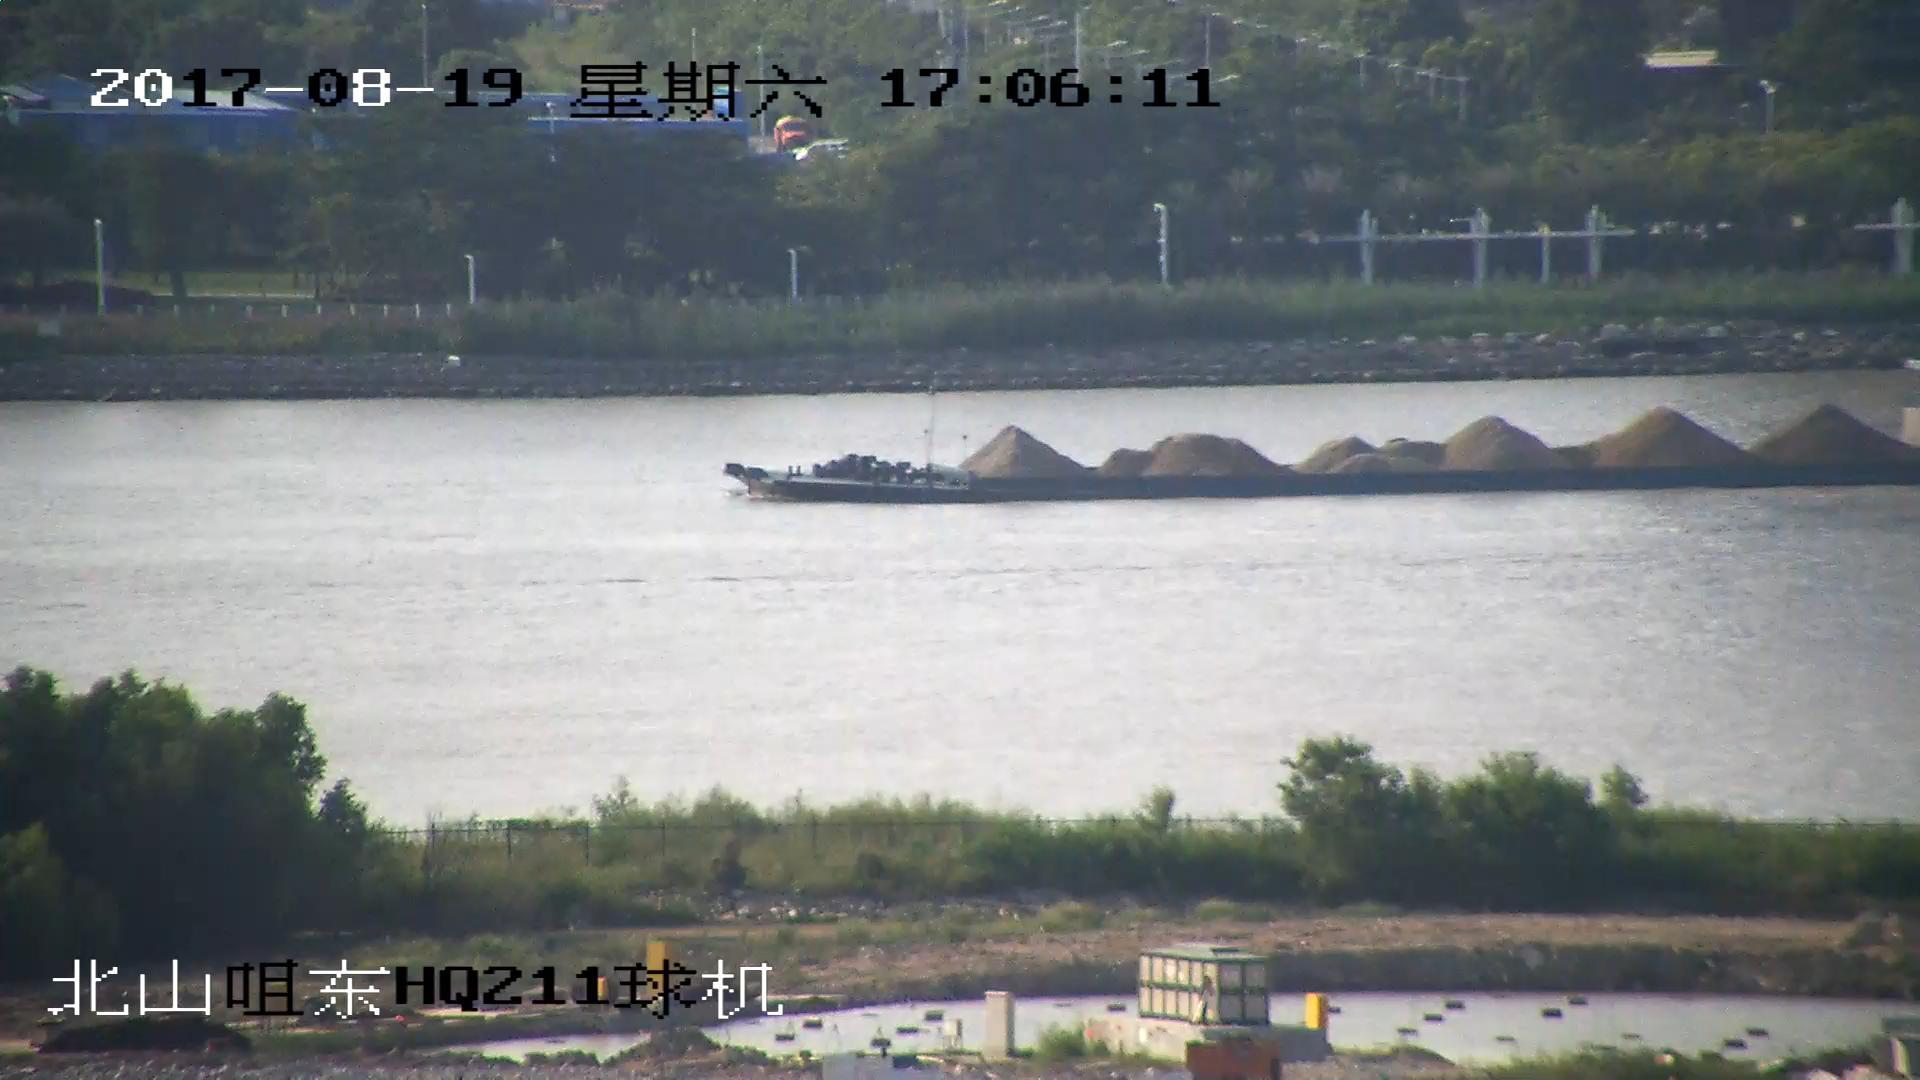Ship: (729, 397, 1920, 514)
